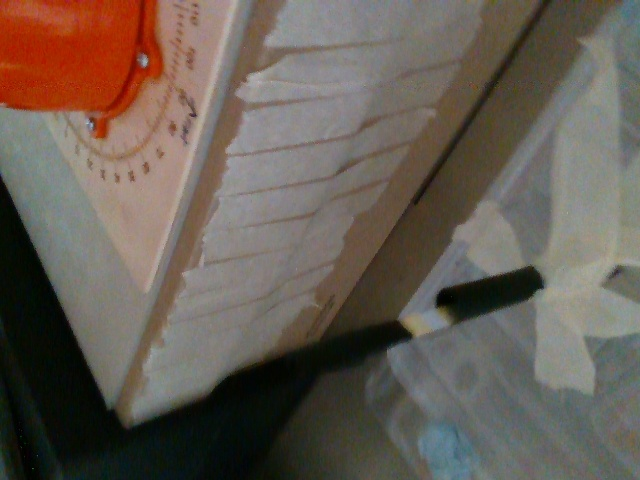test_strip: (314, 307, 451, 374)
